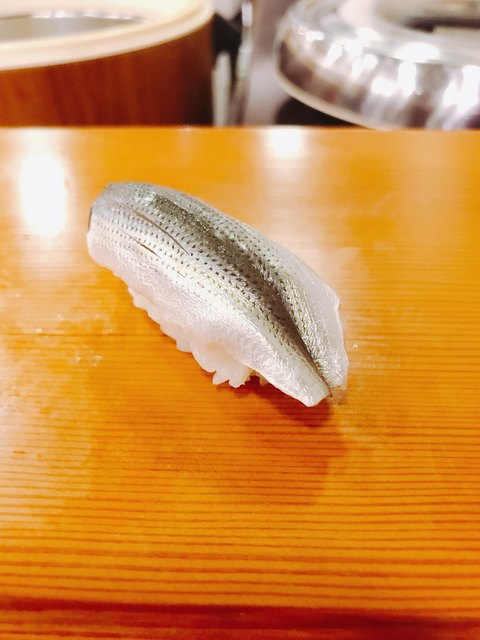spotted-shad: (82, 177, 355, 416)
